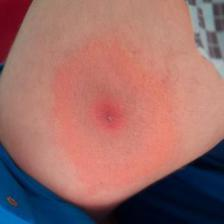Tick: (61, 52, 158, 173)
